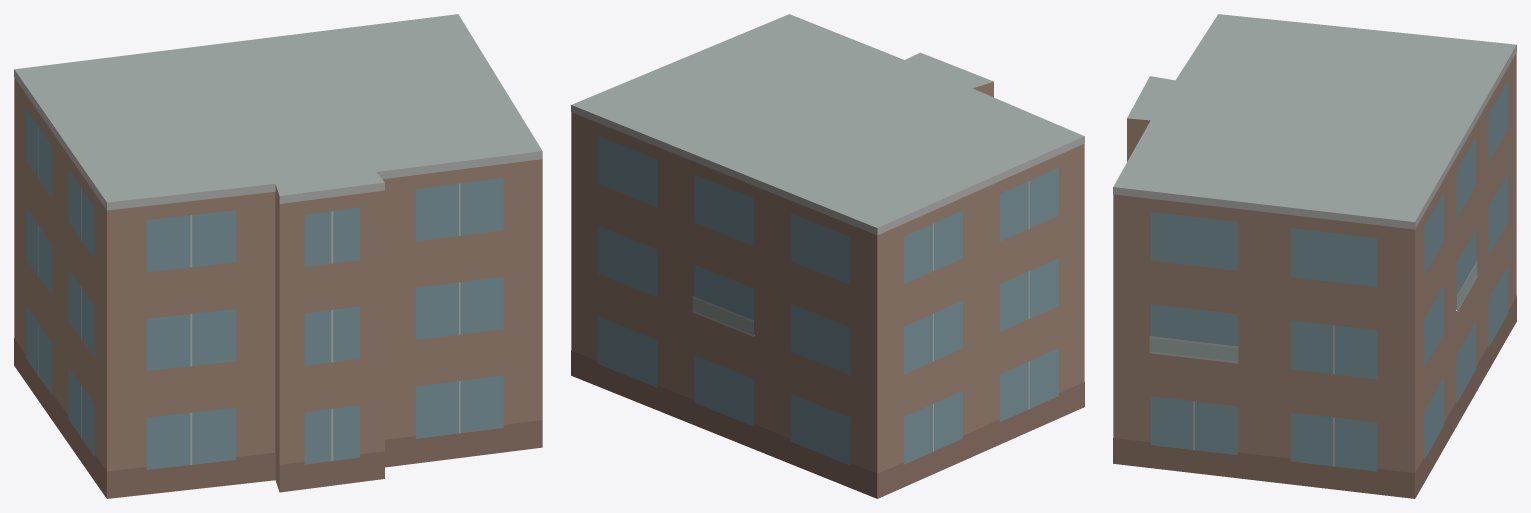
File: survey-upis-32584455.glb
3 renders of one model, left to right at view 1: azimuth 30°, elevation 25°; view 2: azimuth 150°, elevation 25°; view 3: azimuth 270°, elevation 25°, orthographic. The views are drawn at different scales.
Parts seen in each view (by area): view 1: survey-upis-32584455.tmp; view 2: survey-upis-32584455.tmp; view 3: survey-upis-32584455.tmp.
Part boxes in pixels (x1,y1,x2,y2): survey-upis-32584455.tmp: [14, 14, 542, 498]; survey-upis-32584455.tmp: [571, 14, 1084, 498]; survey-upis-32584455.tmp: [1113, 14, 1516, 498].
Size of the model in its own units: 14.77 by 9.15 by 12.11.
